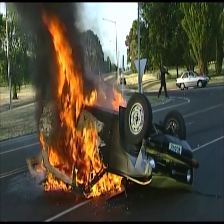fire_h: (39, 10, 106, 186), (86, 172, 123, 198), (41, 172, 71, 192)
fire_l: (110, 86, 126, 111), (38, 131, 46, 153), (36, 157, 46, 173)
